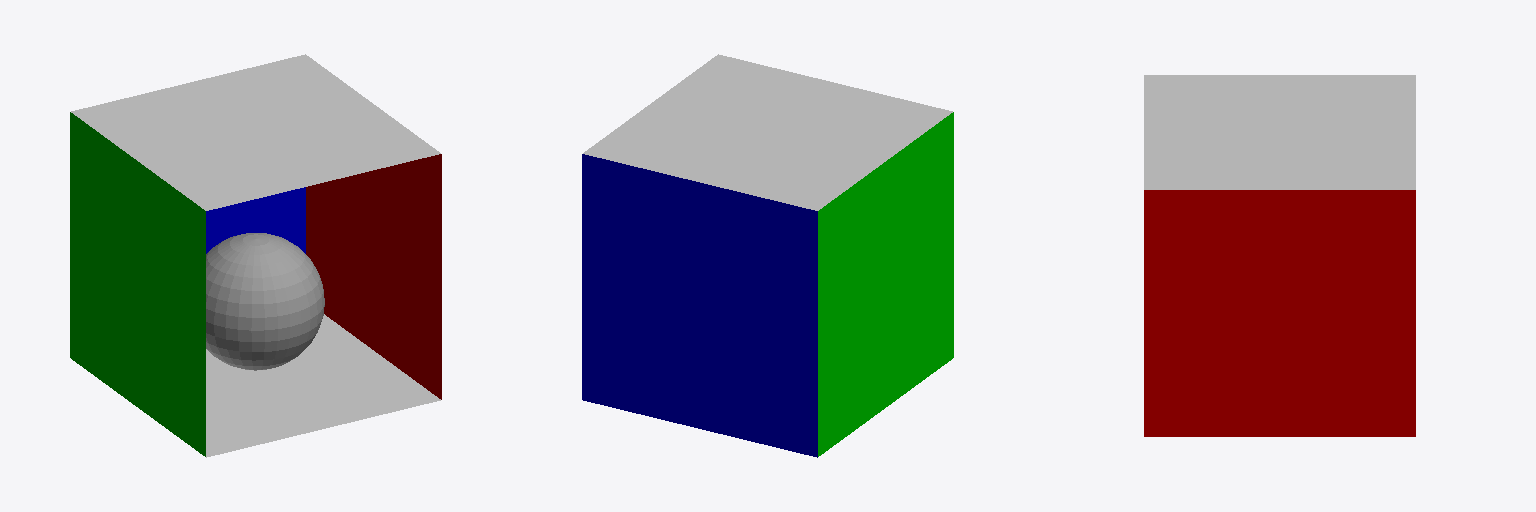
Rendered from sphere_box_nolight.obj.
3 renders of one model, left to right at view 1: azimuth 30°, elevation 25°; view 2: azimuth 150°, elevation 25°; view 3: azimuth 270°, elevation 25°, orthographic.
Visible parts, largest first — view 1: Cube_Cube.003, Sphere; view 2: Cube_Cube.003; view 3: Cube_Cube.003.
Boxes of the visible parts, <box> form: Cube_Cube.003: <box>70,54,441,457</box>; Sphere: <box>206,233,324,370</box>; Cube_Cube.003: <box>582,54,953,457</box>; Cube_Cube.003: <box>1144,75,1415,436</box>.
Size of the model in its own units: 1.12 by 1.12 by 1.12.